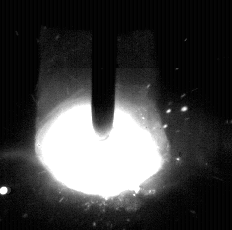arame: (92, 0, 116, 134)
poca: (33, 0, 169, 230)
